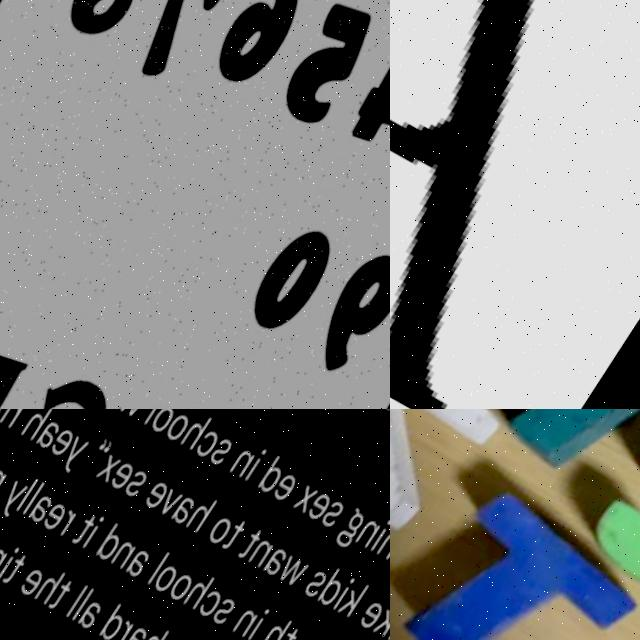0: (216, 187, 388, 374)
4: (311, 0, 390, 193)
5: (247, 0, 390, 162)
6: (182, 0, 356, 117)
7: (89, 0, 281, 123)
8: (29, 0, 207, 76)
9: (278, 220, 390, 409)
A: (30, 495, 59, 529), (36, 421, 66, 453), (82, 602, 111, 635), (129, 551, 157, 584), (174, 499, 202, 531), (267, 552, 295, 583), (127, 629, 157, 640)
C: (573, 412, 640, 640), (201, 593, 231, 625), (197, 433, 225, 465)
D: (259, 461, 295, 503), (321, 573, 356, 616), (98, 525, 133, 568), (102, 606, 137, 640)
E: (50, 428, 82, 463), (146, 483, 176, 517), (274, 477, 304, 510), (309, 497, 338, 530), (112, 464, 141, 497), (44, 503, 73, 536), (24, 568, 52, 601), (363, 606, 390, 638)
G: (337, 513, 374, 558), (0, 409, 16, 432)
H: (181, 415, 217, 458), (189, 498, 223, 538), (187, 577, 220, 617), (38, 569, 71, 609), (21, 409, 55, 445), (265, 619, 298, 640), (379, 530, 390, 569), (144, 629, 176, 640)
I: (247, 454, 270, 486), (339, 584, 362, 616), (86, 520, 109, 552), (2, 549, 25, 581), (252, 612, 277, 640), (375, 526, 390, 558), (2, 409, 23, 425)
K: (406, 409, 640, 516), (342, 586, 375, 626), (378, 605, 390, 640)
L: (151, 554, 177, 590), (76, 590, 101, 626), (25, 484, 49, 518), (19, 482, 42, 514), (71, 589, 94, 621), (145, 409, 169, 429)
M: (0, 543, 13, 578), (0, 464, 12, 501)
N: (231, 453, 261, 485), (359, 526, 387, 557), (114, 543, 141, 575), (252, 544, 279, 575), (237, 613, 264, 640)
O: (149, 409, 181, 441), (156, 567, 186, 600), (210, 519, 239, 553), (165, 416, 195, 448), (173, 577, 200, 607)
P: (390, 0, 536, 409)
R: (60, 513, 82, 540), (5, 409, 27, 431), (118, 622, 141, 640)
S: (125, 471, 154, 505), (210, 441, 239, 474), (307, 574, 336, 607), (324, 504, 352, 538), (216, 601, 243, 633)
T: (390, 469, 640, 640), (241, 533, 269, 568), (225, 524, 253, 558), (51, 581, 79, 615), (5, 555, 33, 589), (75, 518, 101, 550), (279, 632, 306, 640)
V: (159, 491, 189, 523)
W: (280, 561, 316, 597), (117, 409, 152, 425)
X: (296, 490, 324, 521), (98, 456, 126, 487)
Y: (59, 438, 93, 477), (0, 481, 32, 520)
Z: (390, 409, 523, 569)
